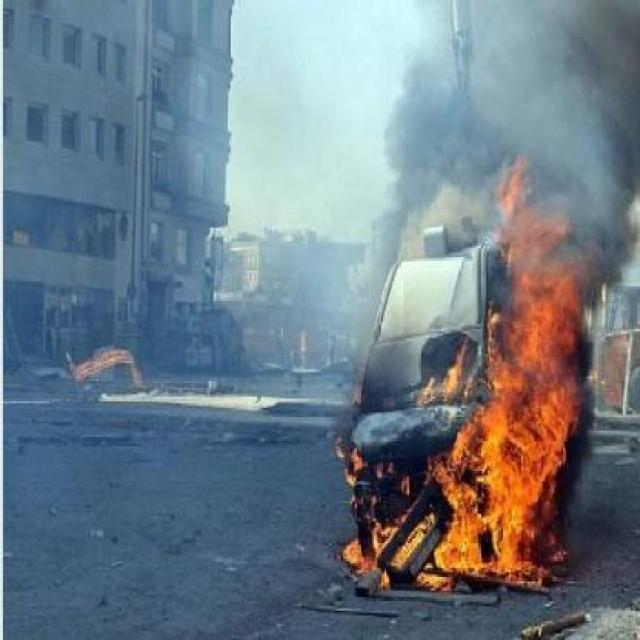Fire: (348, 218, 618, 596)
Smoke: (383, 23, 626, 208)
